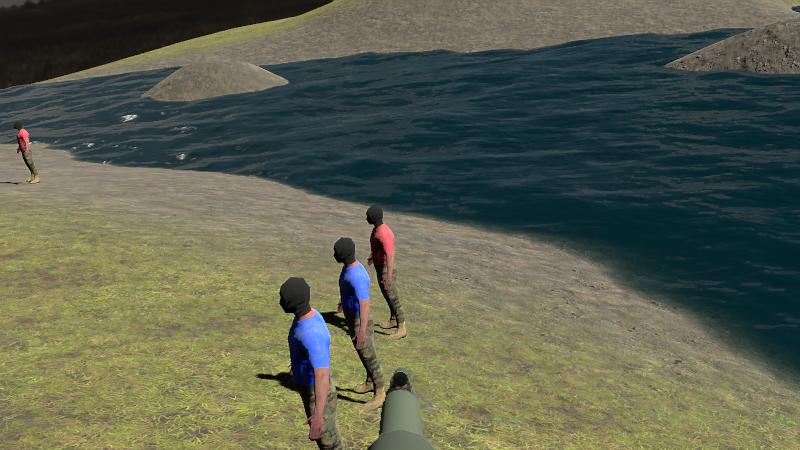Human: (279, 274, 343, 448), (333, 236, 386, 408), (367, 204, 407, 339), (15, 120, 40, 183)
